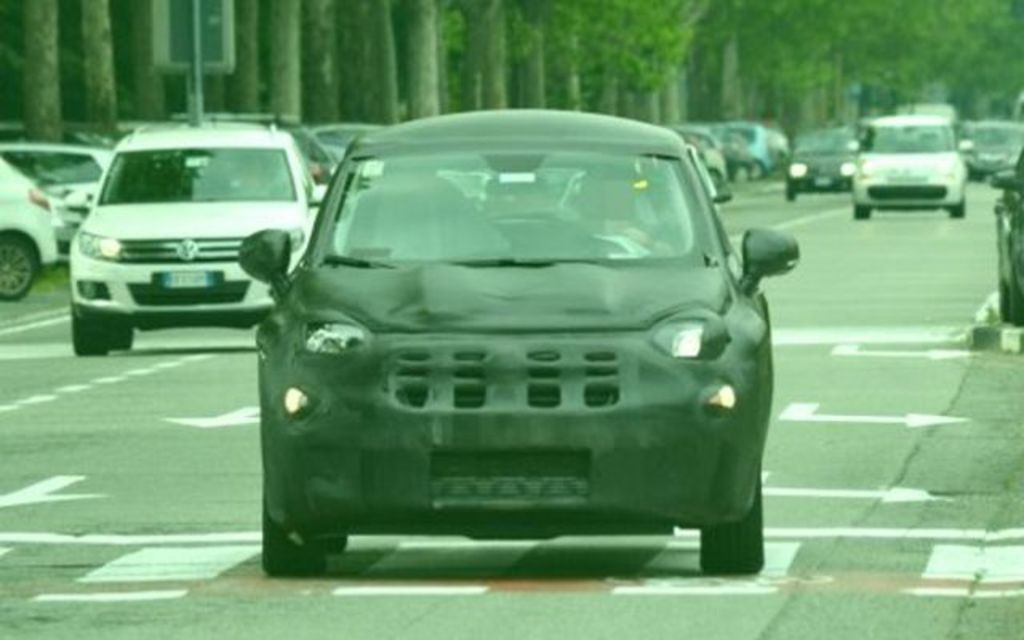Car: (0, 104, 1022, 577)
